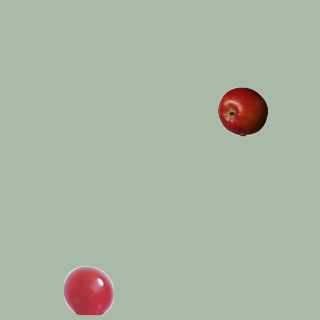Apple Braeburn: (217, 86, 267, 136)
Redcurrant: (63, 265, 113, 315)
